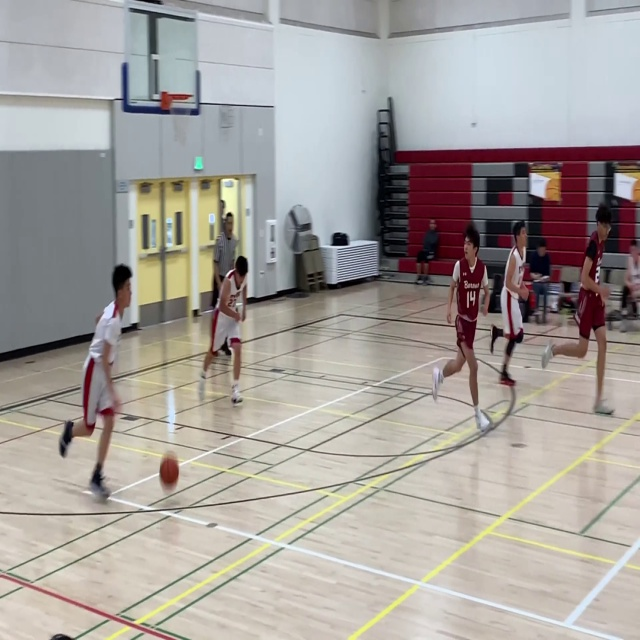Basketball: (159, 451, 179, 485)
